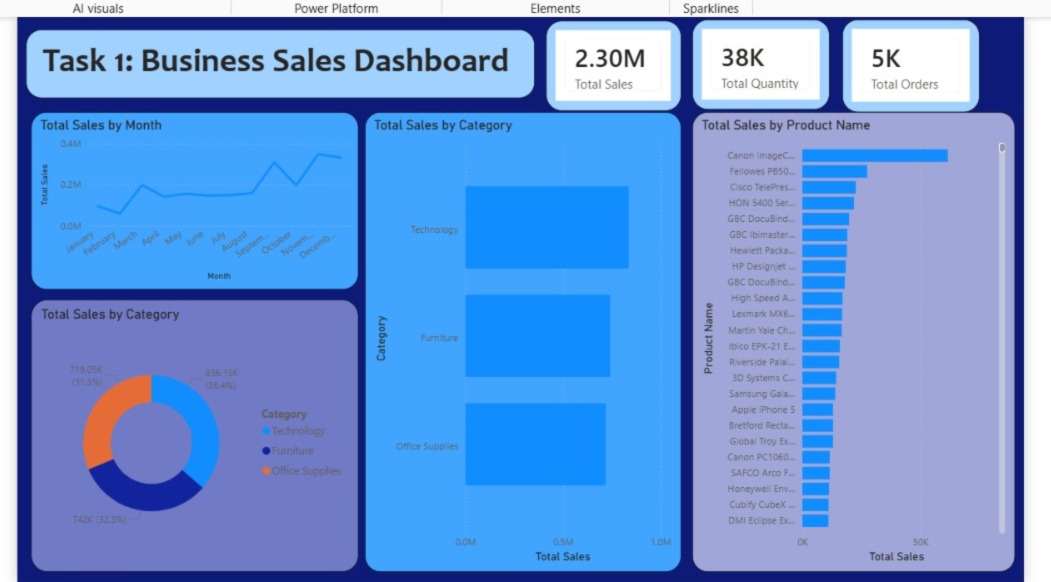

The dashboard page shown, as its layout file describes it:
{"tool":"powerbi","page":{"name":"Page 2","canvas":[1280,720],"ordinal":0},"visuals":[{"type":"lineChart","fields":{"Y":["People.Total Sales"],"Category":["orders.Order Date.Variation.Date Hierarchy.Month"]},"box":[17.5,120.9,416.7,225.9],"z":0},{"type":"textbox","box":[11.1,15.9,647.4,87.5],"z":1},{"type":"cardVisual","fields":{"Data":["People.Total Sales"]},"box":[672.8,4.8,171.8,114.5],"z":2},{"type":"cardVisual","fields":{"Data":["People.Total Orders"]},"box":[1049.8,3.2,175,117.7],"z":3},{"type":"cardVisual","fields":{"Data":["People.Total Quantity"]},"box":[858.9,3.2,175,114.5],"z":4},{"type":"donutChart","fields":{"Category":["orders.Category"],"Y":["People.Total Sales"]},"box":[17.5,359.5,416.7,346.8],"z":5},{"type":"clusteredBarChart","fields":{"Category":["orders.Category"],"Y":["People.Total Sales"]},"box":[442.2,120.9,402.4,585.3],"z":6},{"type":"barChart","fields":{"Category":["orders.Product Name"],"Y":["People.Total Sales"]},"box":[858.9,120.9,410.4,585.3],"z":7}]}

Visuals, with their boxes in screenshot pixels (x1, y1, x2, y2):
lineChart - People.Total Sales x orders.Order Date.Variation.Date Hierarchy.Month: 19,107,352,288
textbox: 14,24,531,94
cardVisual - People.Total Sales: 543,15,680,106
cardVisual - People.Total Orders: 844,14,983,107
cardVisual - People.Total Quantity: 691,14,831,105
donutChart - orders.Category x People.Total Sales: 19,298,352,575
clusteredBarChart - orders.Category x People.Total Sales: 359,107,680,575
barChart - orders.Product Name x People.Total Sales: 691,107,1019,575
